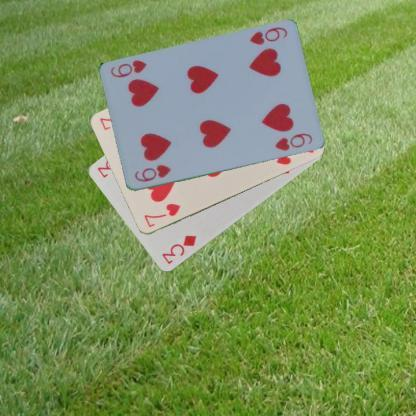3d: (158, 232, 198, 266)
6h: (246, 25, 288, 47), (132, 162, 172, 184)
7h: (140, 201, 182, 230)
